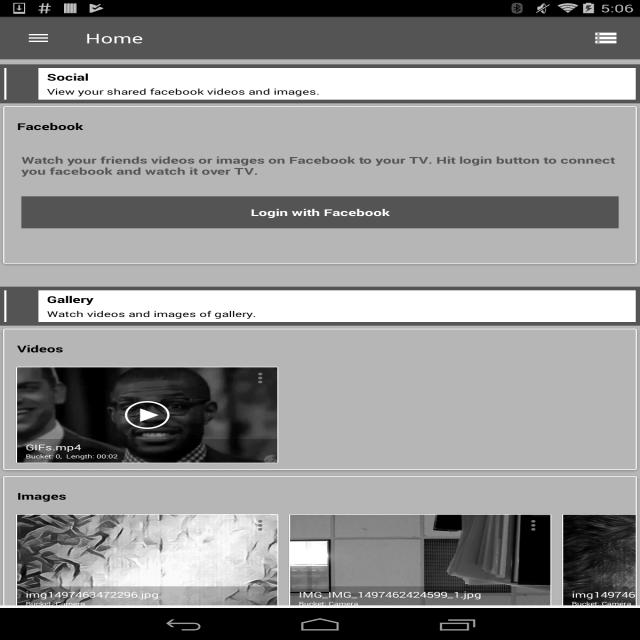ImageButton: (9, 17, 68, 59), (248, 370, 278, 386), (248, 518, 278, 534), (520, 518, 550, 534)
ImageView: (17, 367, 277, 463), (290, 515, 551, 610), (17, 515, 277, 610), (563, 515, 640, 610), (121, 399, 172, 431)
TextView: (21, 154, 619, 186), (21, 196, 619, 228), (17, 112, 623, 140), (17, 334, 623, 362), (17, 482, 623, 510), (47, 86, 319, 97), (47, 308, 256, 320), (298, 589, 482, 600), (580, 22, 632, 54), (26, 589, 159, 600), (85, 29, 143, 47), (571, 589, 640, 600), (25, 453, 118, 460), (47, 293, 94, 306), (26, 442, 81, 452), (47, 71, 88, 83), (26, 600, 85, 607), (299, 600, 358, 607), (572, 600, 631, 607)
